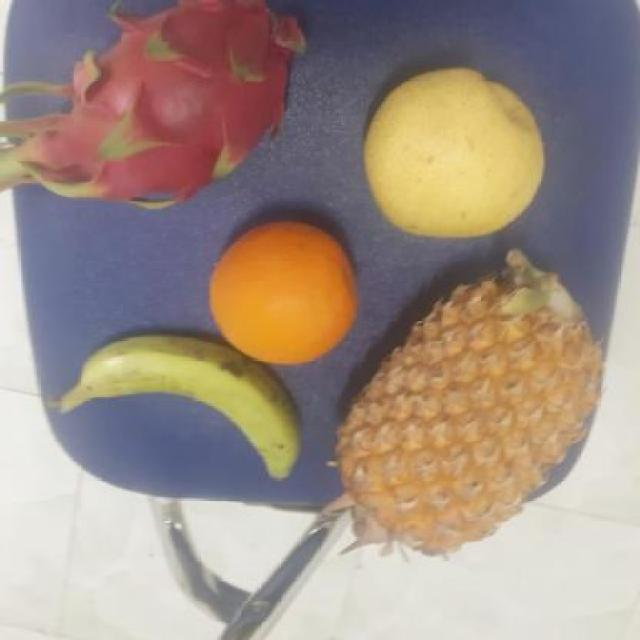banana: (56, 334, 319, 481)
dragon fruit: (32, 1, 320, 202)
oren: (204, 218, 365, 365)
pear: (358, 63, 553, 243)
pineapple: (340, 255, 602, 549)
